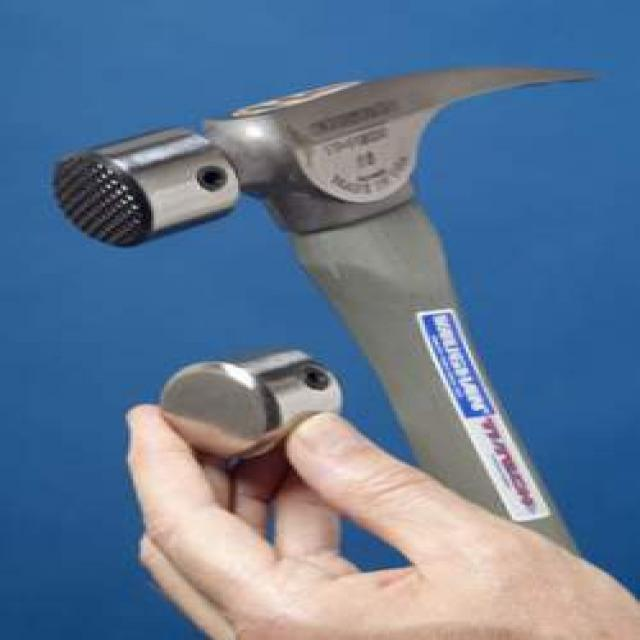hammer: (44, 38, 607, 326)
